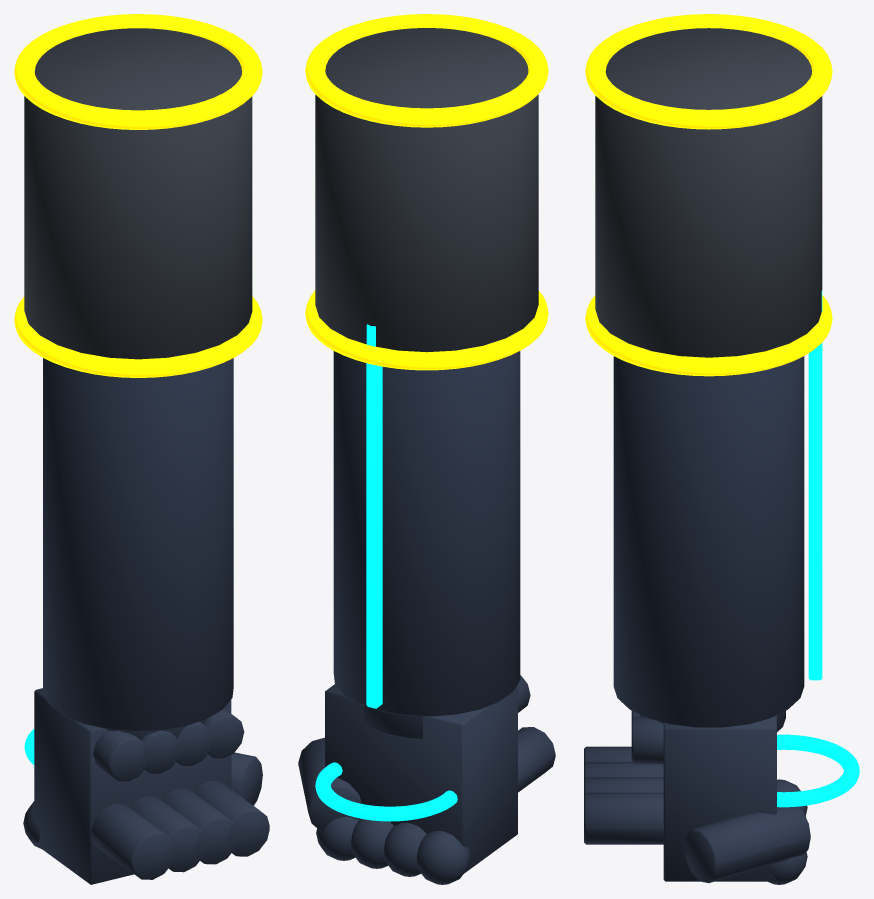
Rendered from mano_derecha.glb.
The picture shows the model from 3 angles, left to right: view 1: azimuth 30°, elevation 25°; view 2: azimuth 150°, elevation 25°; view 3: azimuth 270°, elevation 25°; orthographic projection. The views are drawn at different scales.
Parts seen in each view (by area): view 1: mano_derecha; view 2: mano_derecha; view 3: mano_derecha.
Boxes of the visible parts, left/top/right/bottom form: mano_derecha: left=14, top=14, right=269, bottom=884; mano_derecha: left=298, top=14, right=555, bottom=884; mano_derecha: left=584, top=14, right=859, bottom=884.
Bounding box in the file's own units: 0.1189 × 0.3868 × 0.1215.
